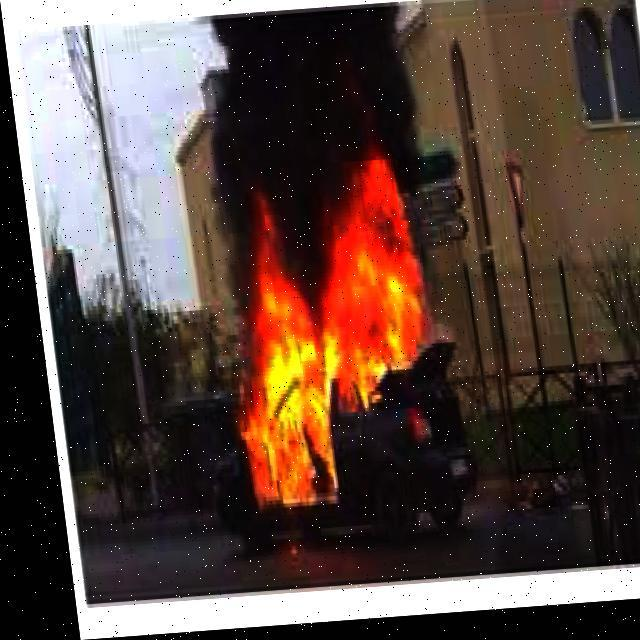Fire: (197, 144, 451, 520)
